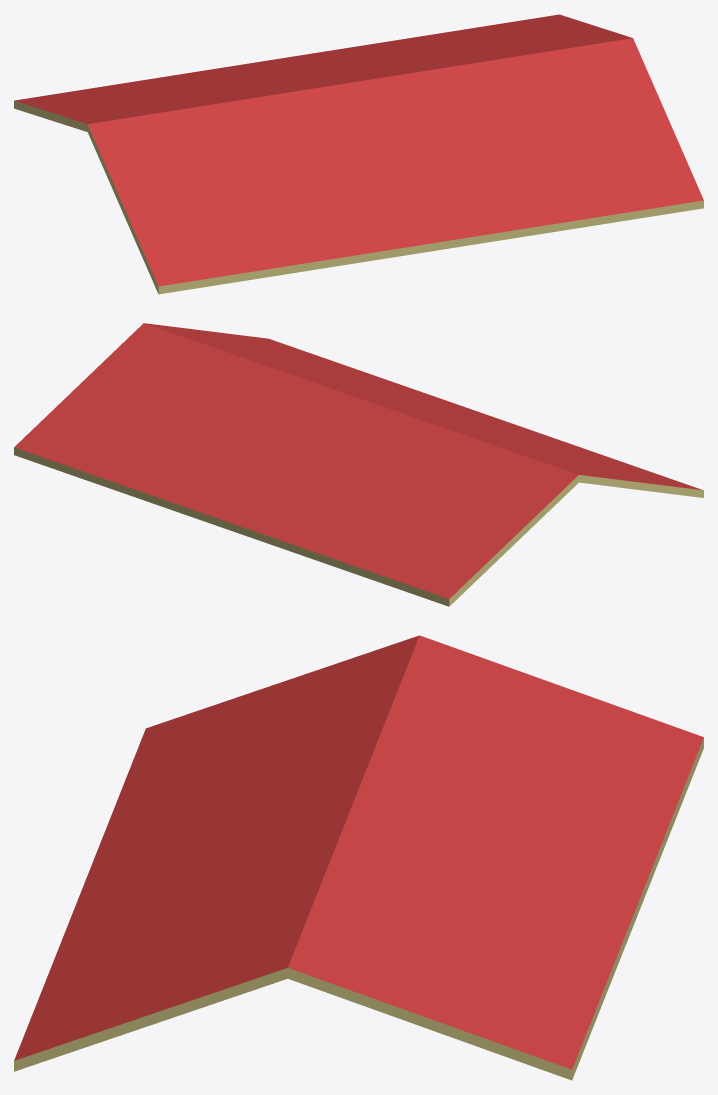
3 renders of one model, top to bottom at view 1: azimuth 30°, elevation 25°; view 2: azimuth 150°, elevation 25°; view 3: azimuth 270°, elevation 25°, orthographic. The views are drawn at different scales.
Size of the model in its own units: 7.32 by 5.74 by 1.13.
